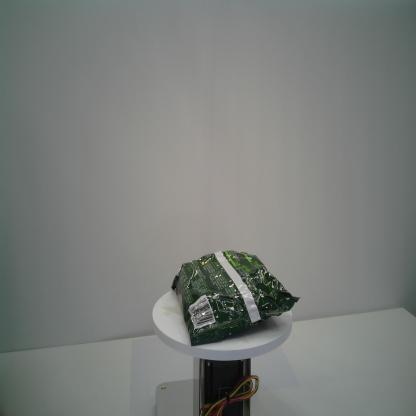Instant Noodles: (169, 248, 302, 348)
